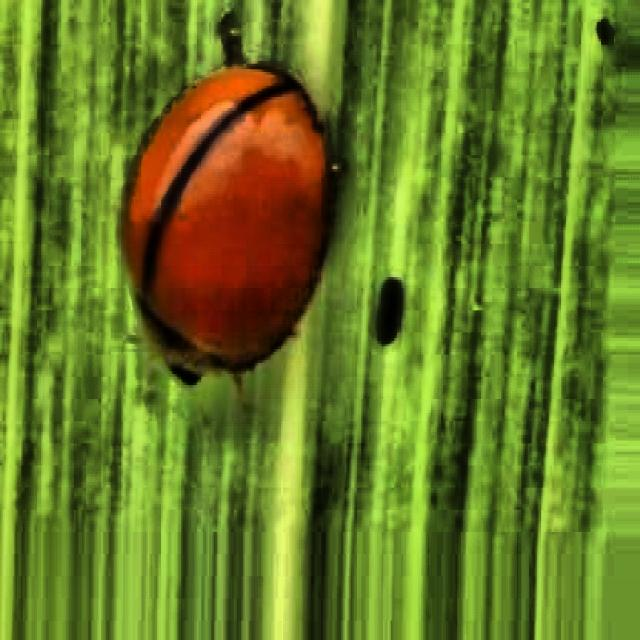Ladybug: (99, 45, 345, 431)
